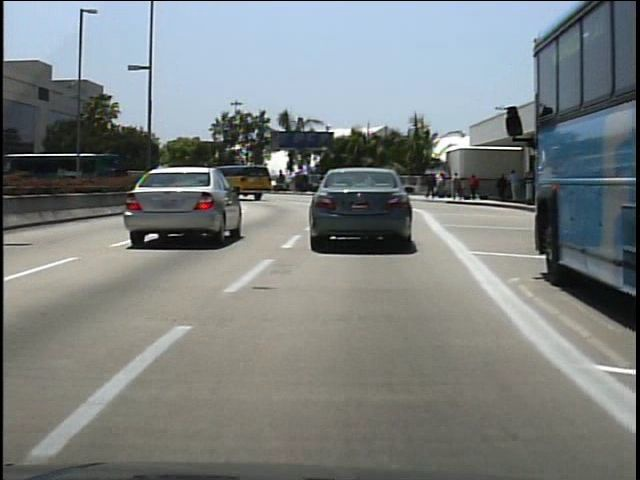person: (506, 165, 522, 203), (466, 169, 483, 202), (494, 170, 510, 202), (451, 169, 466, 201), (221, 168, 237, 193), (425, 172, 439, 200)
